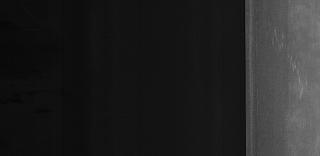silk spot: (269, 20, 311, 114)
